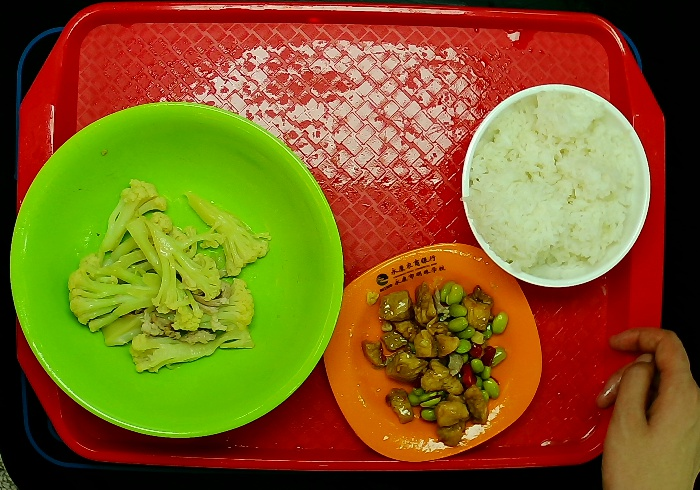YKMZ-Fan_Wan: (457, 81, 657, 292)
YKMZ-Ju_Se_Fang_Die: (318, 238, 548, 466)
YKMZ-Lv_Se_Tang_Wan: (5, 98, 348, 443)
